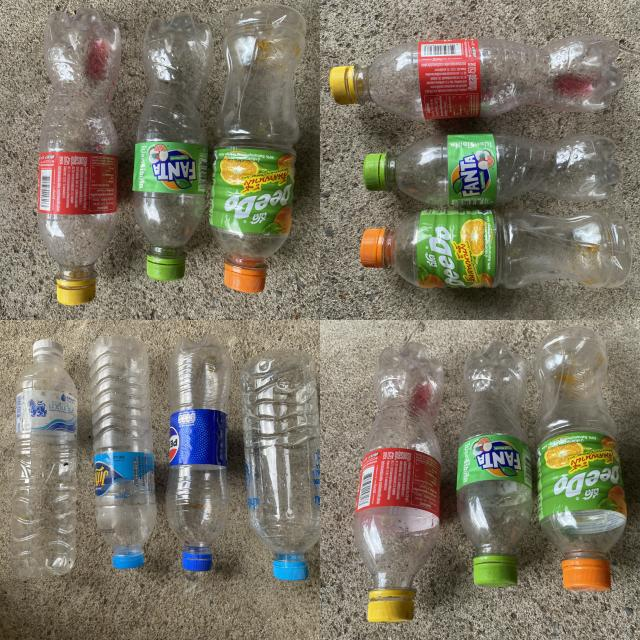plastik: (210, 5, 306, 292), (354, 342, 444, 622), (535, 328, 628, 591), (39, 9, 121, 305), (331, 36, 622, 119), (132, 12, 212, 281), (360, 210, 631, 289), (456, 341, 532, 587), (240, 349, 320, 581), (364, 134, 621, 205), (11, 340, 78, 578), (89, 335, 156, 569), (166, 334, 231, 571)
